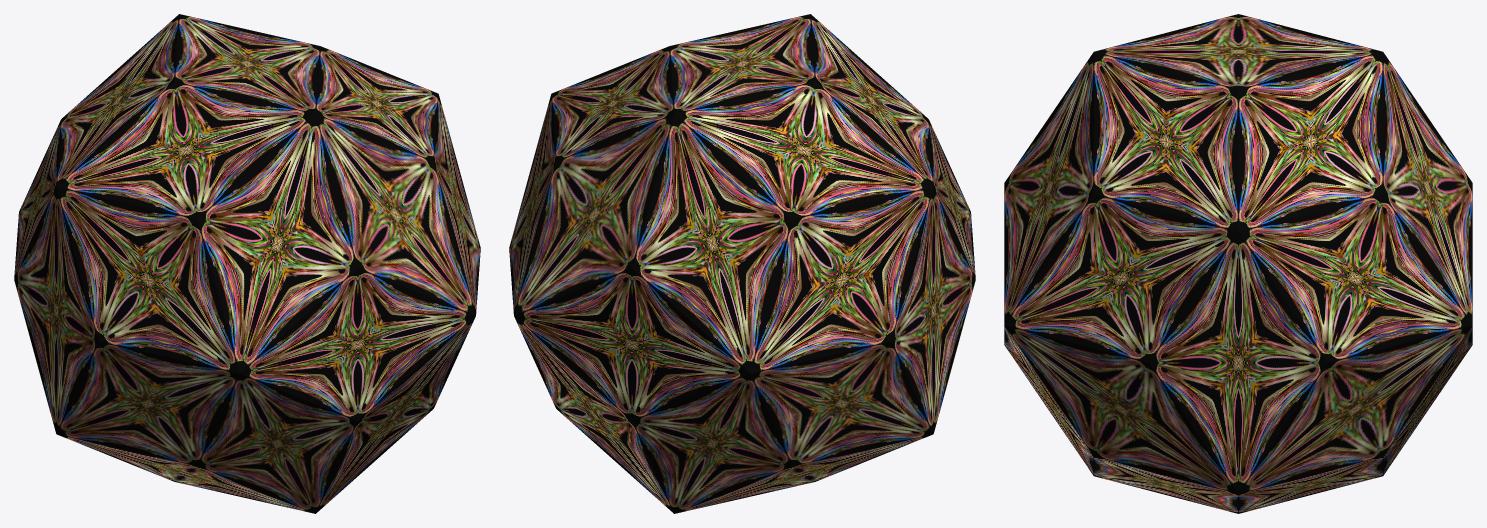
Rendered from RhombicTriacontahedron2.obj.
3 views of the same model, side by side, from view 1: azimuth 30°, elevation 25°; view 2: azimuth 150°, elevation 25°; view 3: azimuth 270°, elevation 25° (orthographic). The views are drawn at different scales.
Size of the model in its own units: 2.93 by 2.93 by 2.93.
Materials: 1 (1 with a texture image).
